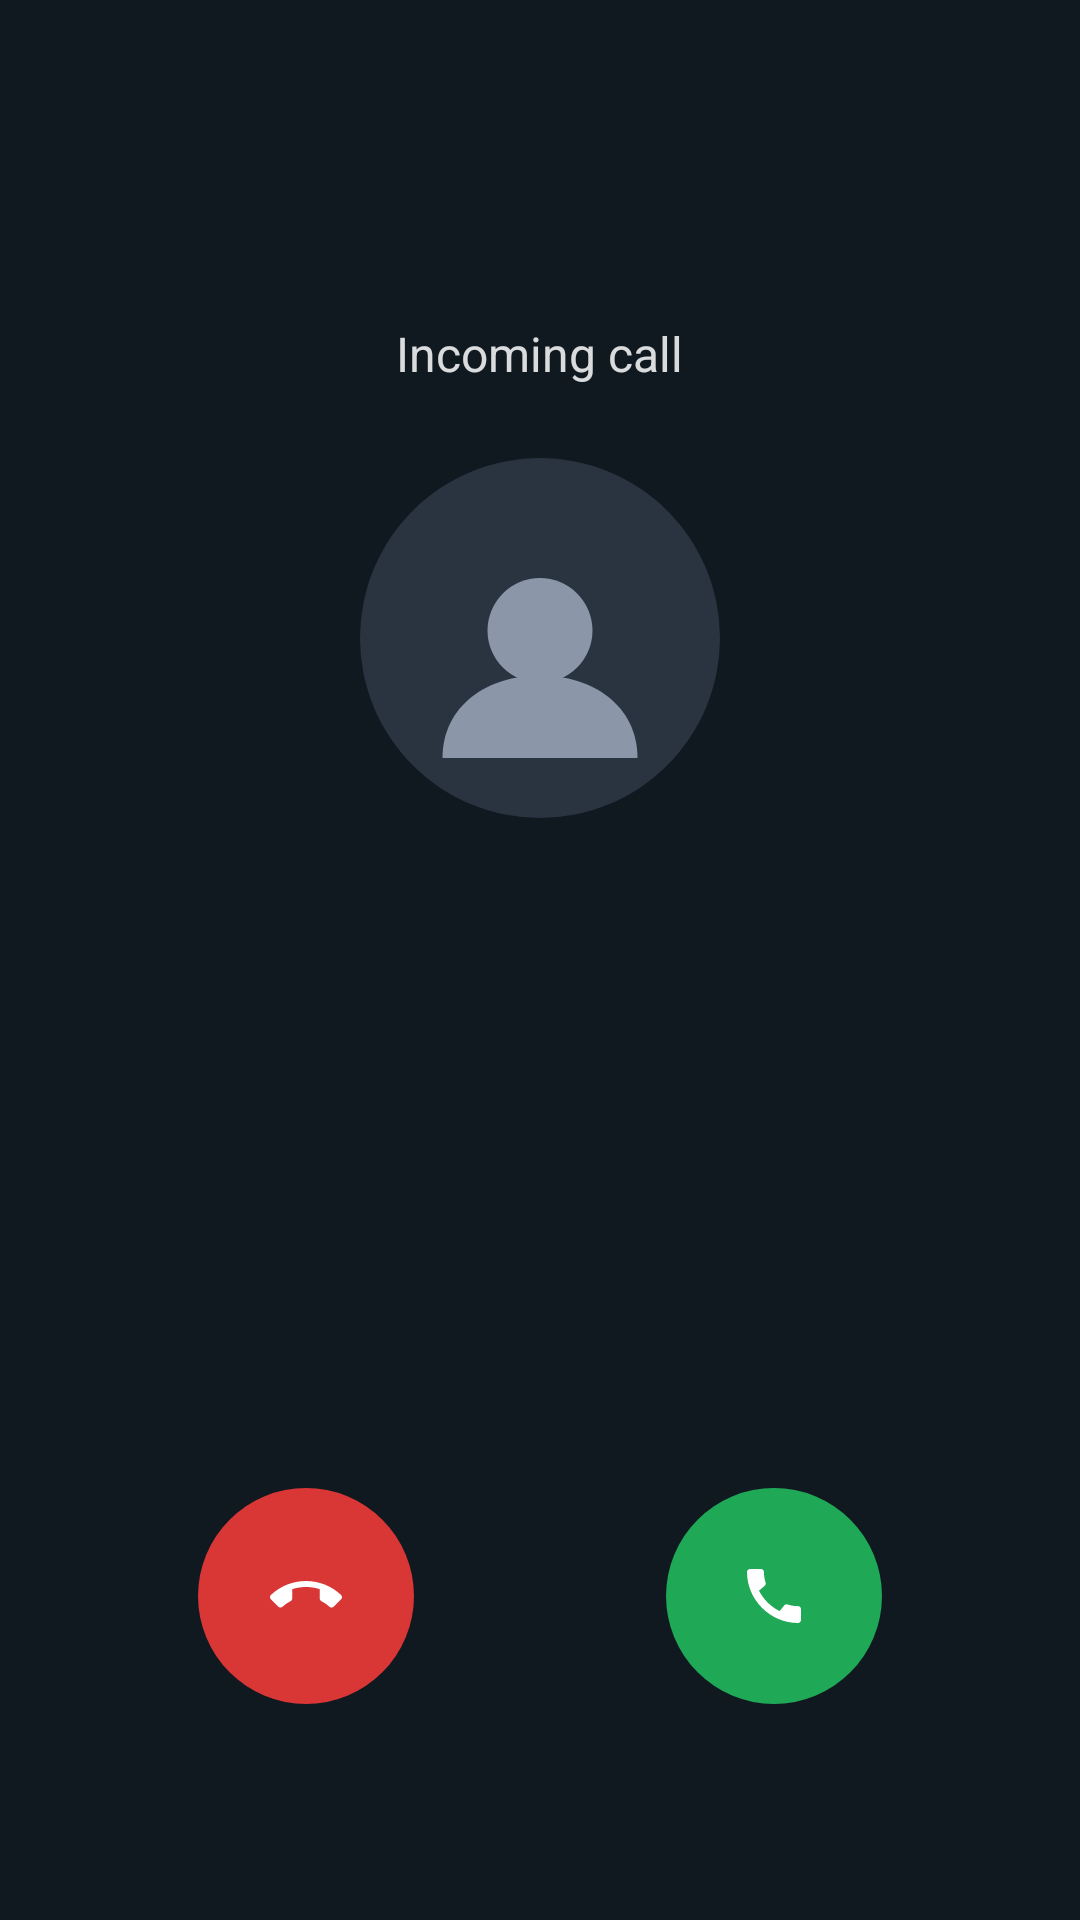

Icon click points for this 1080x1920 phone screenshot, format point (x, y):
Accept call: point (774, 1596)
Decline call: point (306, 1596)
